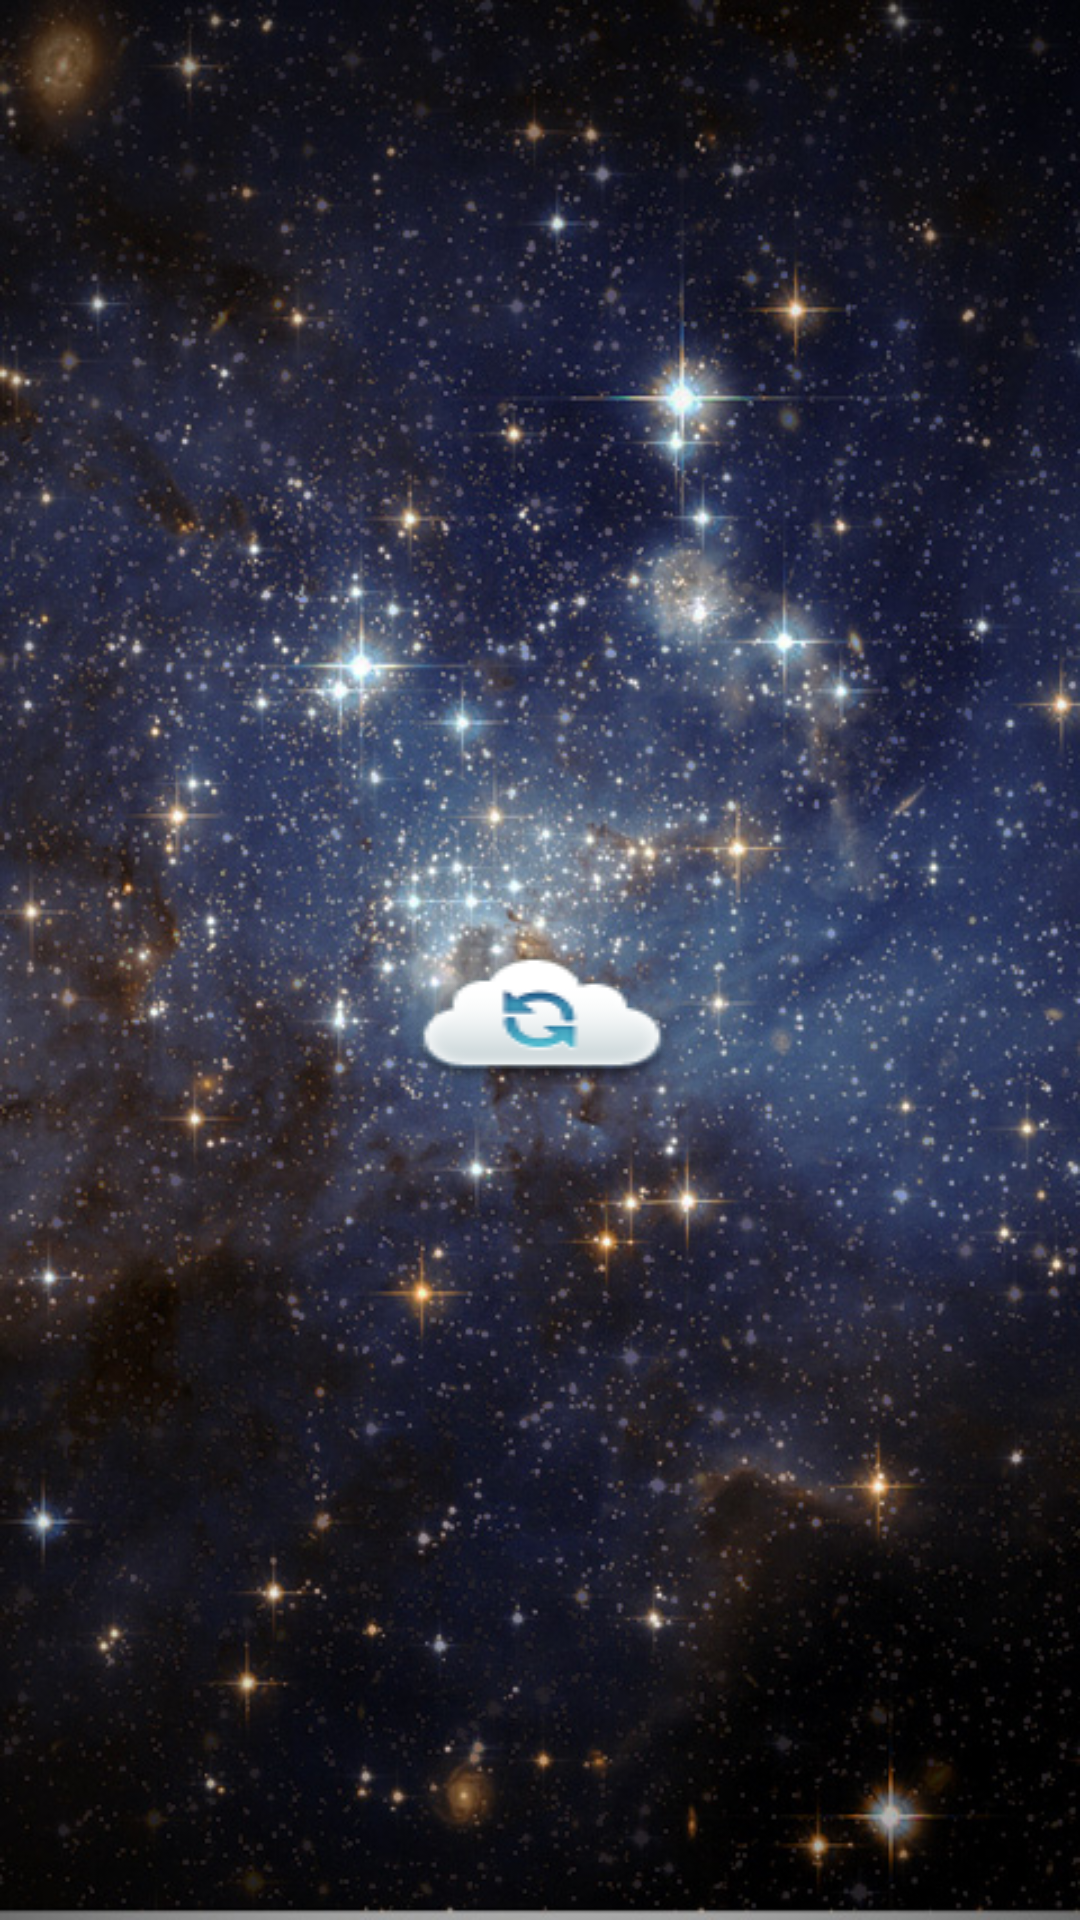

Icons on this 1080px×1920px Android screen, each with the point to tap as (x=x, y=y):
restart: (x=540, y=1020)
